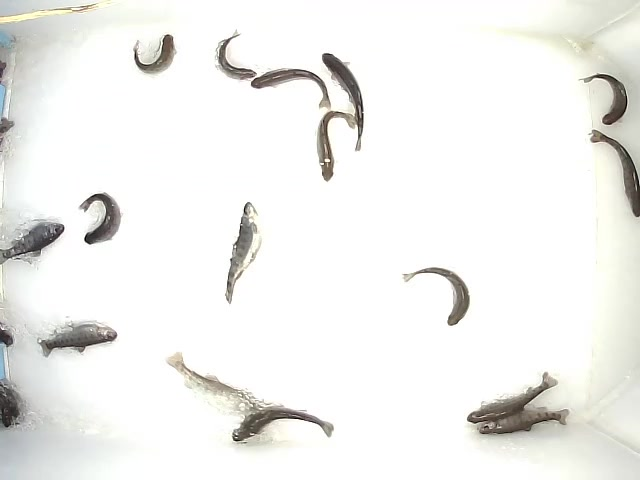fish: (165, 347, 271, 418), (465, 370, 560, 426), (321, 51, 370, 153), (588, 129, 640, 220), (228, 403, 335, 444), (400, 265, 470, 327), (224, 200, 265, 305), (34, 314, 119, 360), (250, 68, 333, 112), (315, 109, 360, 183), (1, 219, 66, 267), (478, 406, 571, 437), (579, 71, 628, 127), (77, 191, 123, 246), (213, 28, 260, 81), (131, 33, 178, 75)
